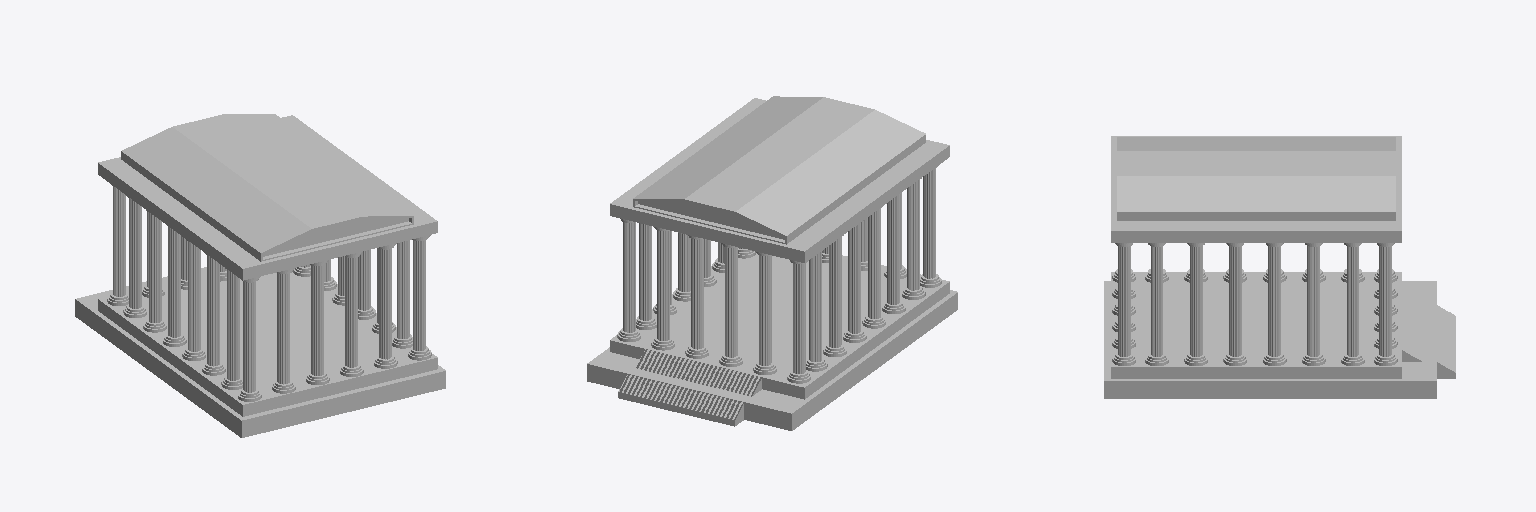
Rendered from temple.obj.
3 views of the same model, side by side, from view 1: azimuth 30°, elevation 25°; view 2: azimuth 150°, elevation 25°; view 3: azimuth 270°, elevation 25° (orthographic).
Visible parts, largest first — view 1: Cube.022; view 2: Cube.022; view 3: Cube.022.
Part boxes in pixels (x1,y1,x2,y2): Cube.022: (75,114,445,437); Cube.022: (587,96,957,430); Cube.022: (1104,136,1455,398).
Size of the model in its own units: 45.25 by 39.24 by 67.32.